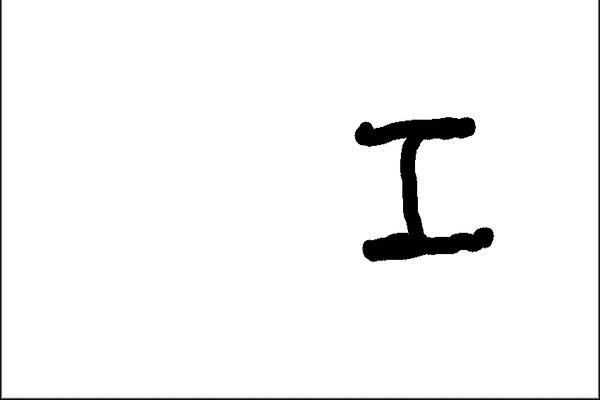i: (349, 114, 506, 270)
